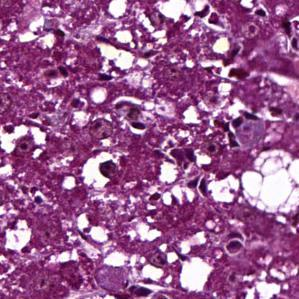ballooning: (238, 145, 299, 220)
